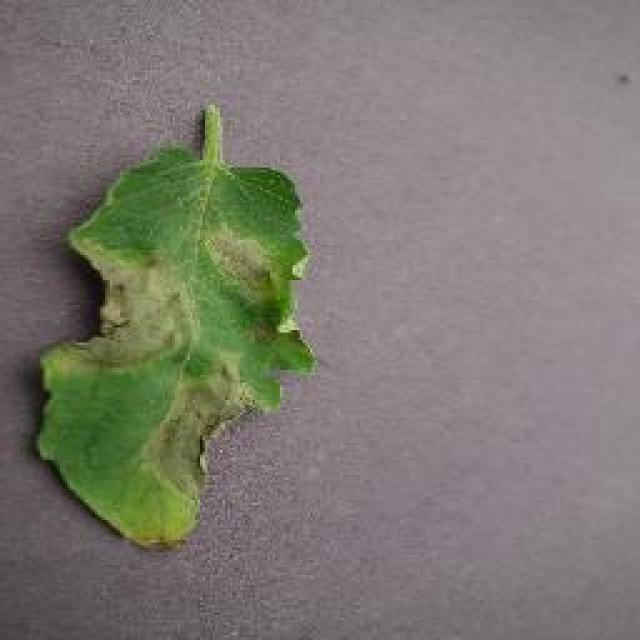Tomato___Late_blight: (38, 105, 318, 552)
